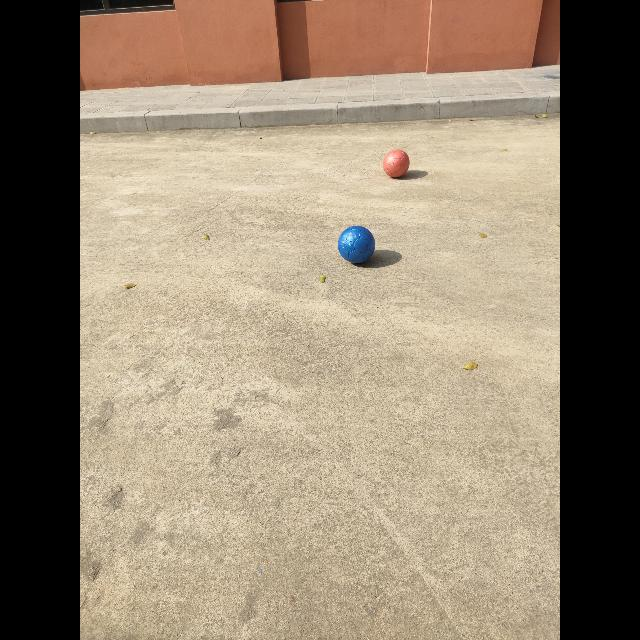B: (338, 226, 375, 264)
R: (382, 150, 410, 178)
